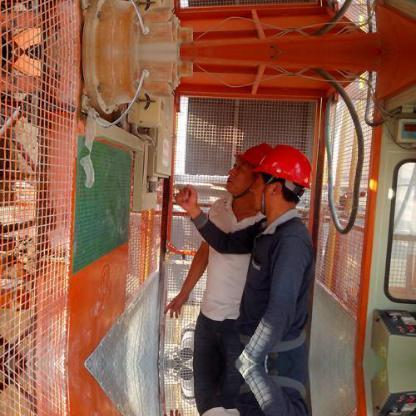helmet: (254, 137, 315, 197), (232, 128, 278, 180)
